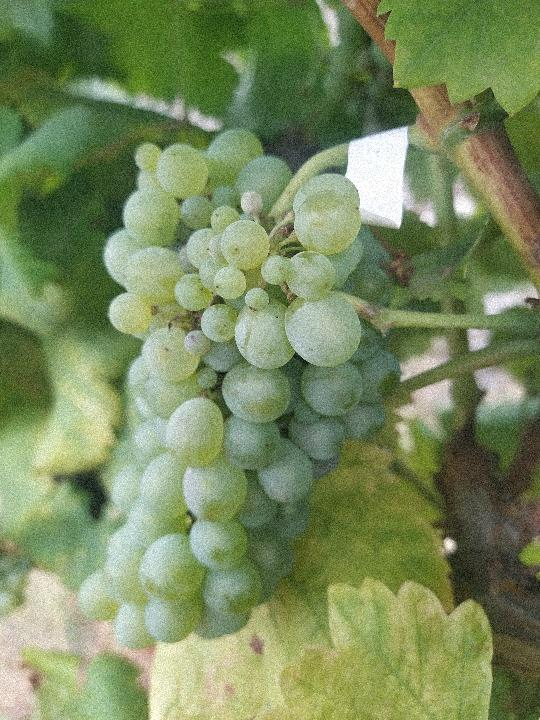grape: (76, 125, 404, 654)
